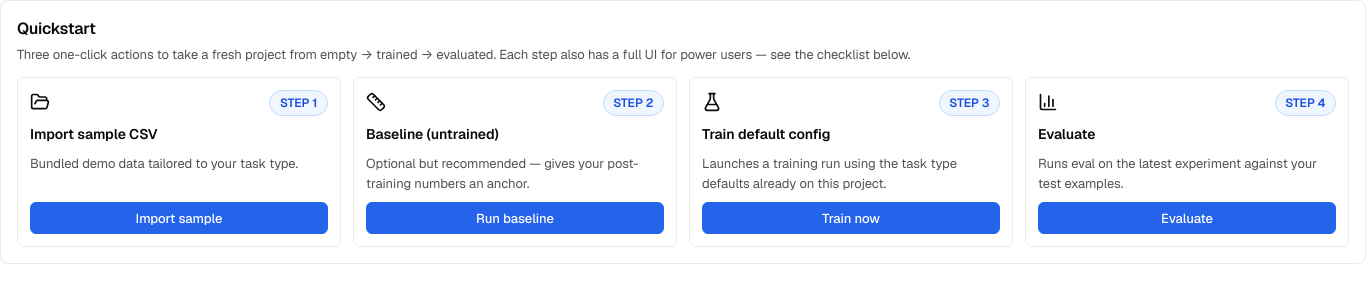
Test: QuickstartCard › runs Evaluate as async Job, surfaces queued state + bell hint
Click the button with test id "quickstart-eval-button" at [1187, 218], box 1038,202 -> 1336,234
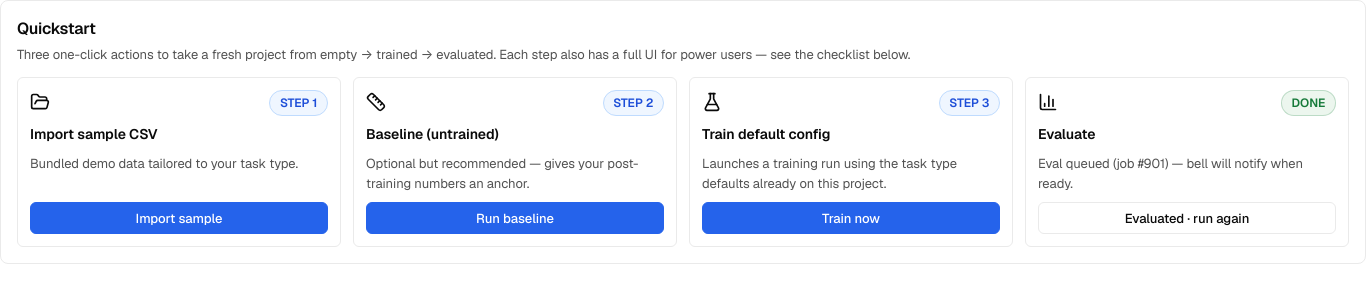
Now the text with test id "quickstart-eval-badge" reads "Done", box 1292,95 -> 1325,111
Now the text with test id "quickstart-eval-description" shows "Eval queued (job #901) — bell will notify when ready", box 1038,155 -> 1303,192
